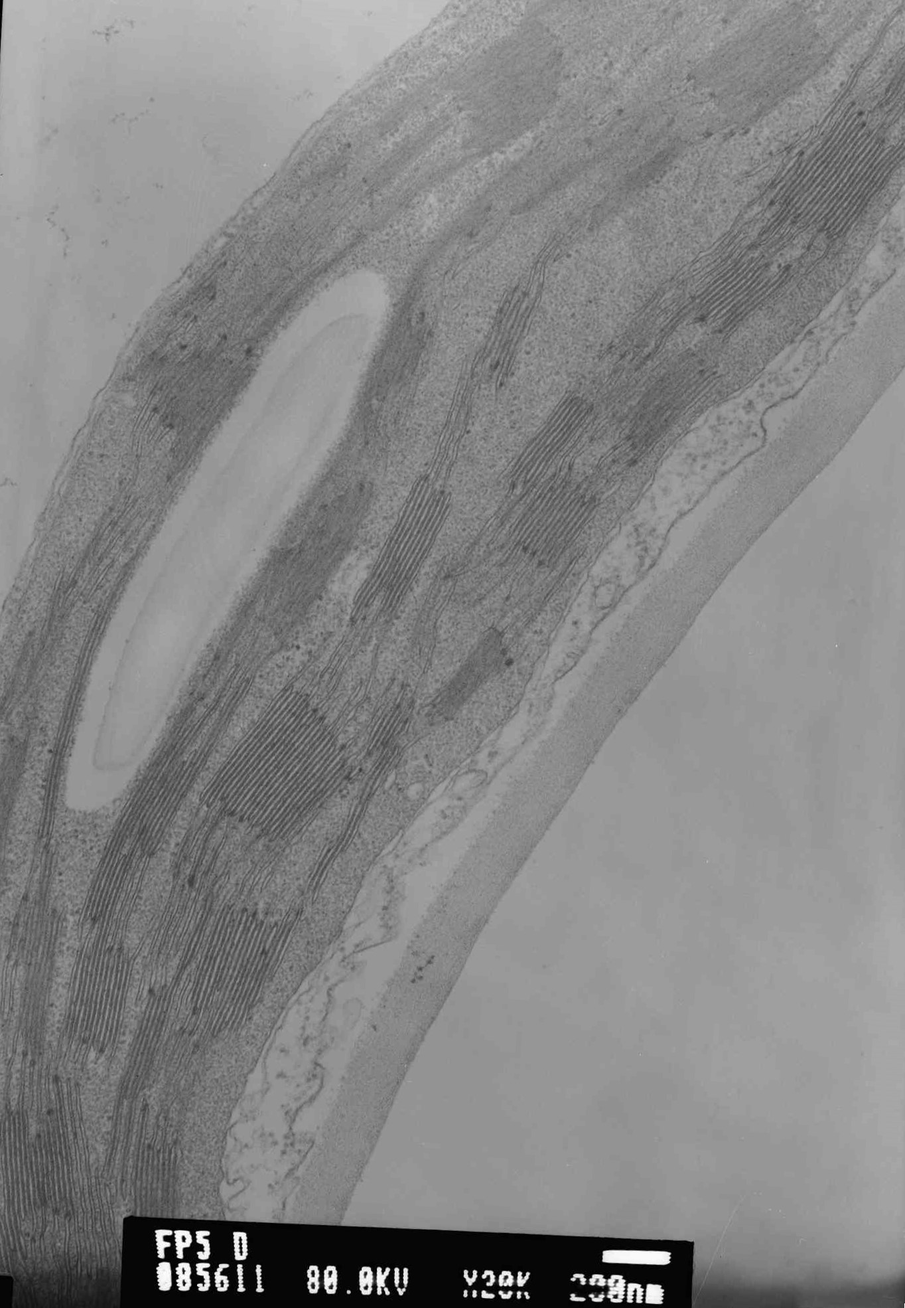granum: (198, 682, 364, 845), (112, 675, 256, 858), (35, 583, 125, 842), (758, 101, 905, 243), (251, 484, 373, 649), (685, 0, 837, 130), (443, 15, 570, 152), (182, 901, 301, 1038), (352, 473, 456, 623), (150, 332, 259, 468), (0, 1104, 80, 1274), (651, 256, 798, 345), (622, 347, 727, 457), (494, 388, 597, 494), (14, 844, 63, 1056), (57, 944, 137, 1062), (503, 474, 601, 569), (357, 111, 456, 194), (426, 626, 509, 721), (334, 745, 406, 853), (113, 983, 178, 1102), (78, 828, 136, 946), (473, 283, 543, 380), (364, 315, 432, 406), (178, 871, 232, 968), (129, 1136, 185, 1218), (0, 729, 30, 871), (362, 695, 418, 750), (302, 841, 343, 906), (885, 53, 905, 111)
